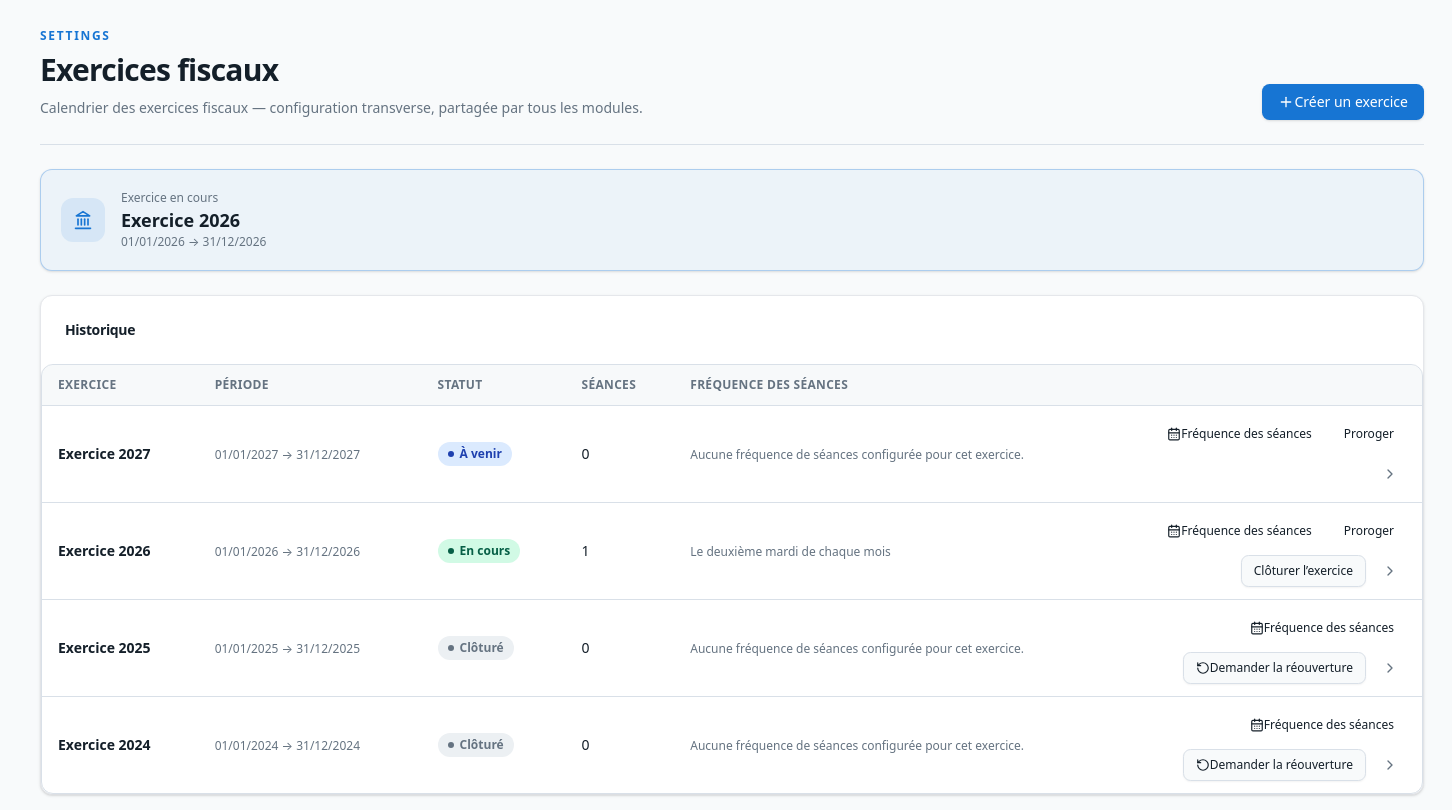
Test: Exercices fiscaux — flèche de navigation vers la fiche › la flèche de l’exercice 2026 ouvre la fiche de CET exercice
Click the button named "Voir la fiche Exercice 2026" at (1390, 571), box 1374,555 -> 1406,587
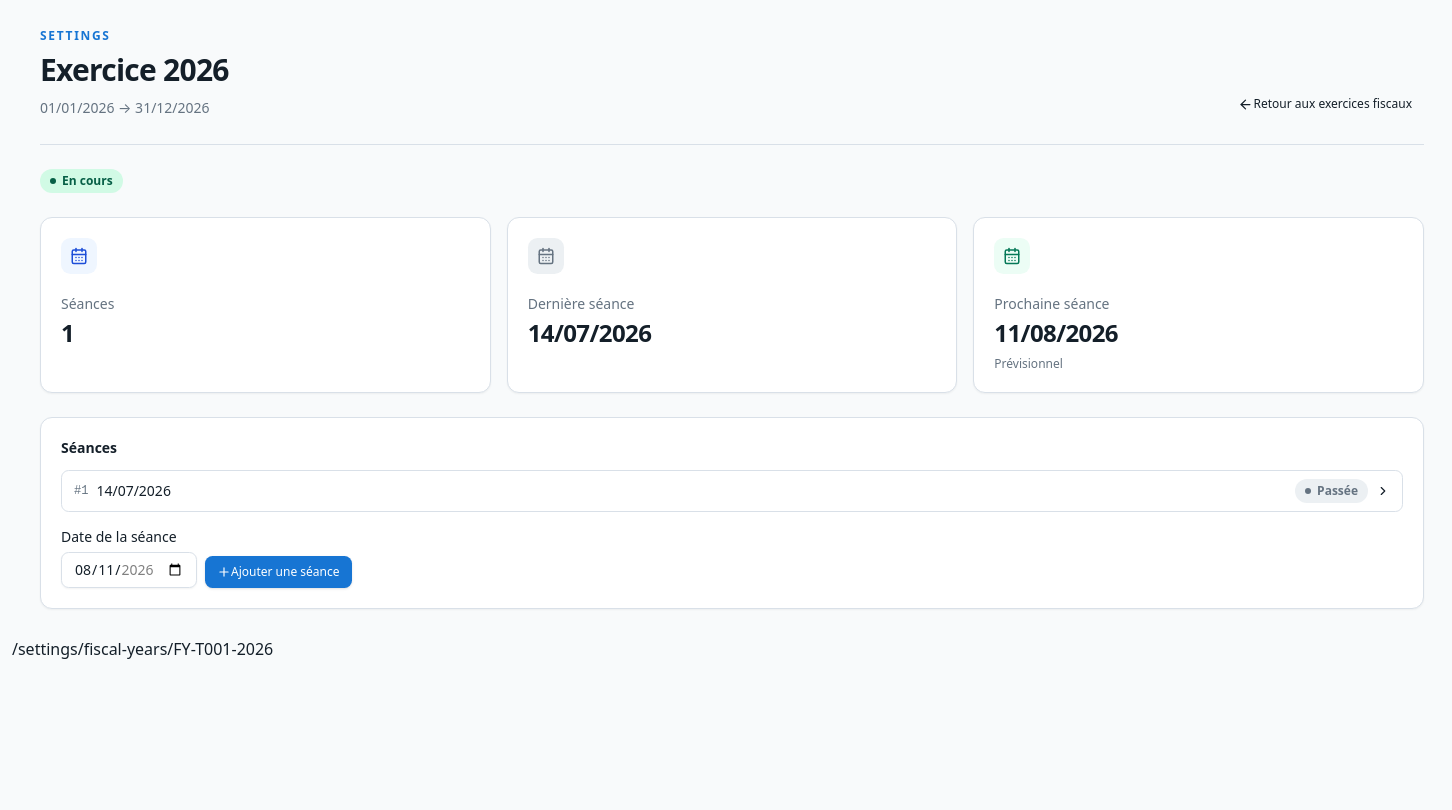
Expected: the heading "Exercice 2026" is shown, 40,52 -> 229,88
